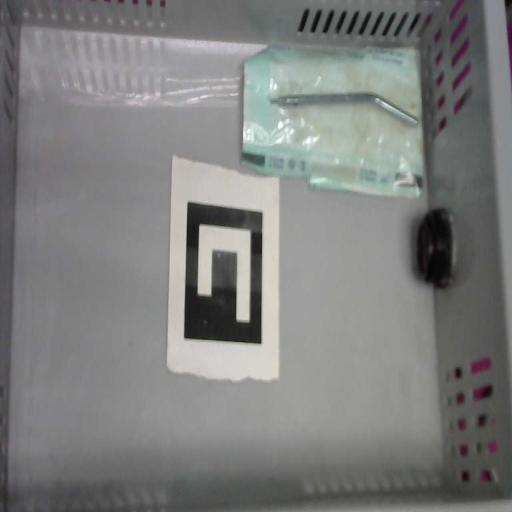QR: (167, 154, 279, 381)
triple_syringe: (241, 44, 424, 198)
